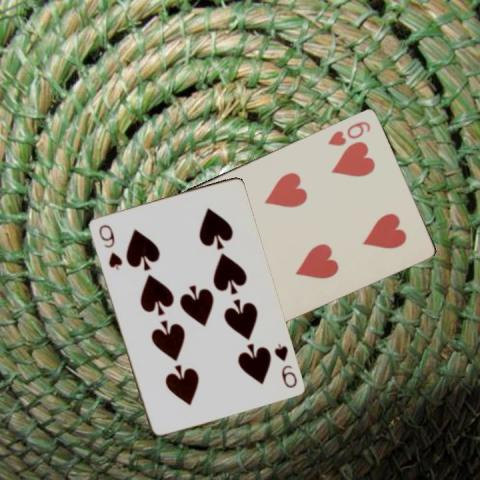6h: (325, 118, 372, 147)
9s: (96, 222, 123, 272), (271, 341, 298, 389)
